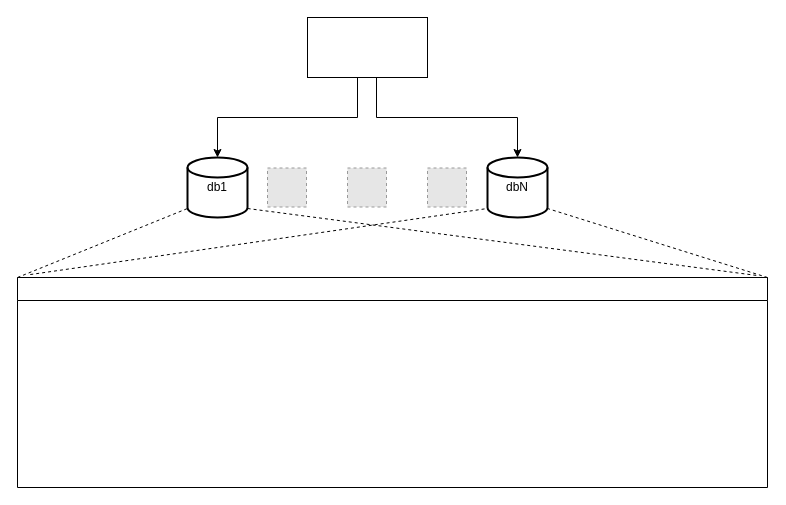
The diagram is 786 pixels wide and 505 high, and some of its shapes have lost their labels. Grey dashed boxes stand in for pictures. Here are the shapes that lost their labels. From the top down, the centre of each, then its label:
[367,47]: Application
[392,382]: Database
